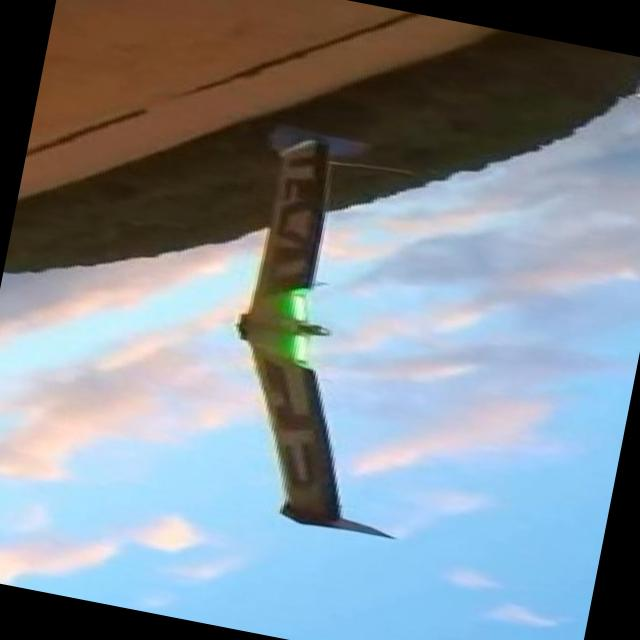UAV: (148, 60, 494, 569)
